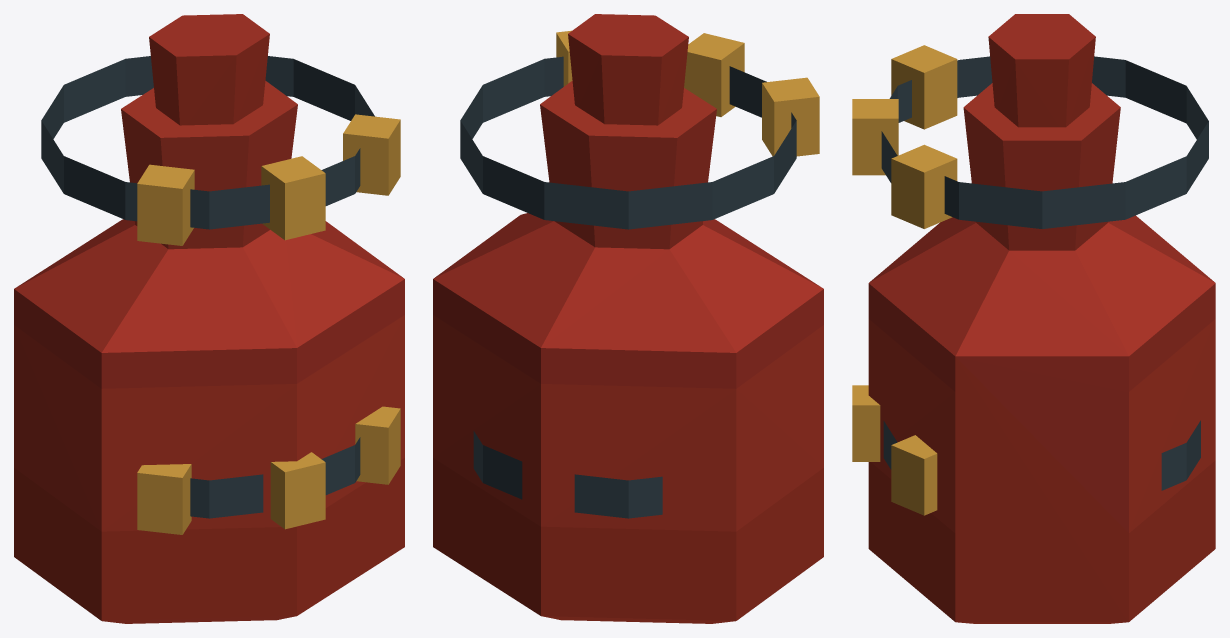
Rendered from jug-coral.glb.
The picture shows the model from 3 angles, left to right: view 1: azimuth 30°, elevation 25°; view 2: azimuth 150°, elevation 25°; view 3: azimuth 270°, elevation 25°; orthographic projection.
Visible parts, largest first — view 1: jug-coral; view 2: jug-coral; view 3: jug-coral.
Part boxes in pixels (<box>): jug-coral: <box>14,14,404,623</box>; jug-coral: <box>433,14,823,623</box>; jug-coral: <box>852,14,1215,623</box>.
Bounding box in the file's own units: 0.35 × 0.59 × 0.3665.
